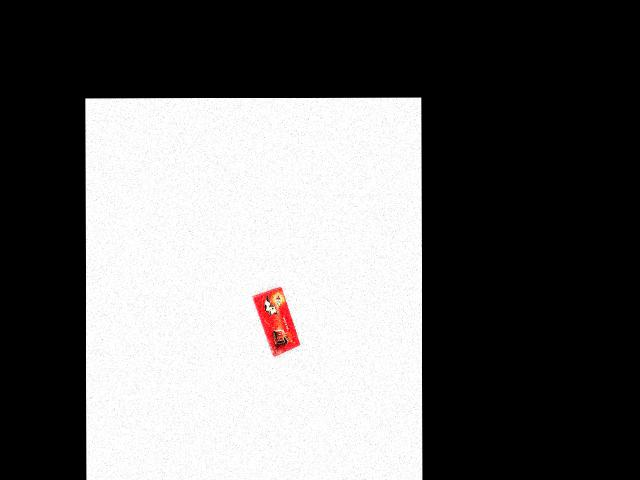chocolate: (252, 288, 301, 357)
